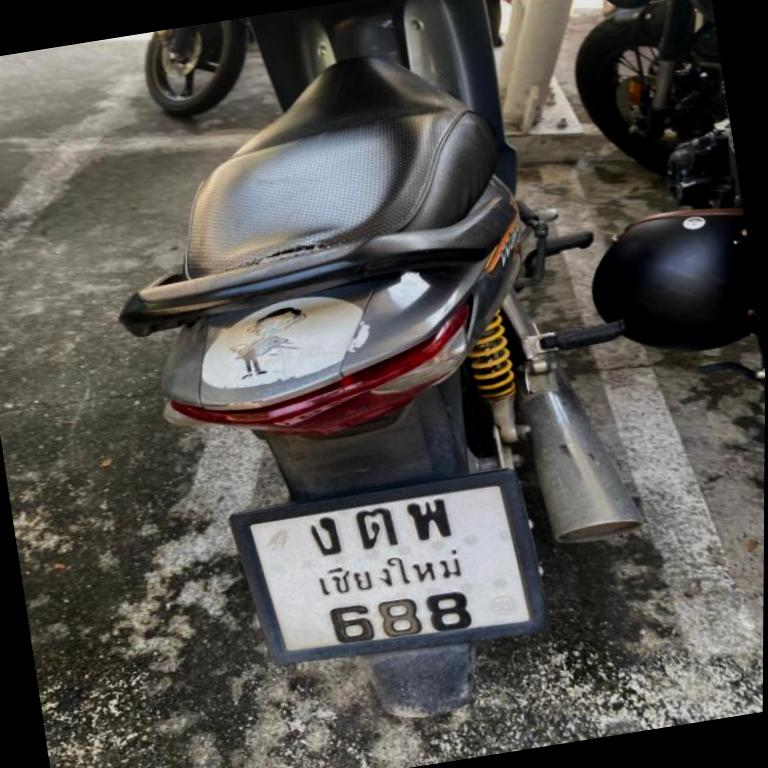license plate: (232, 471, 545, 661)
